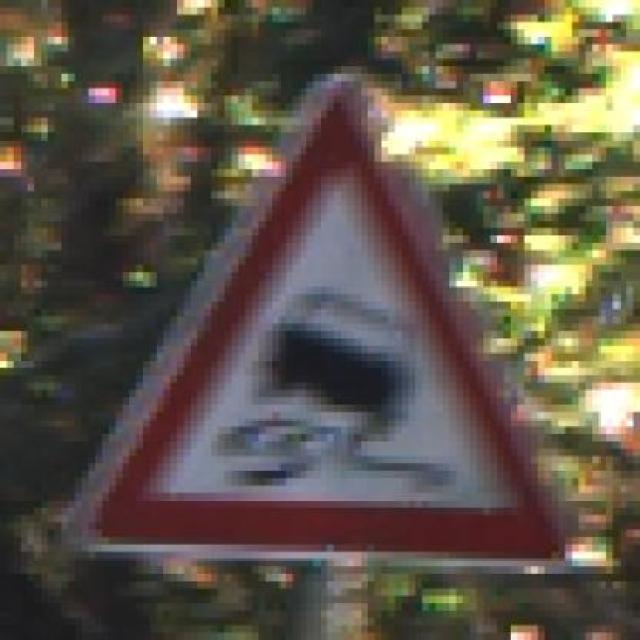Slippery Road Ahead: (41, 66, 585, 574)
